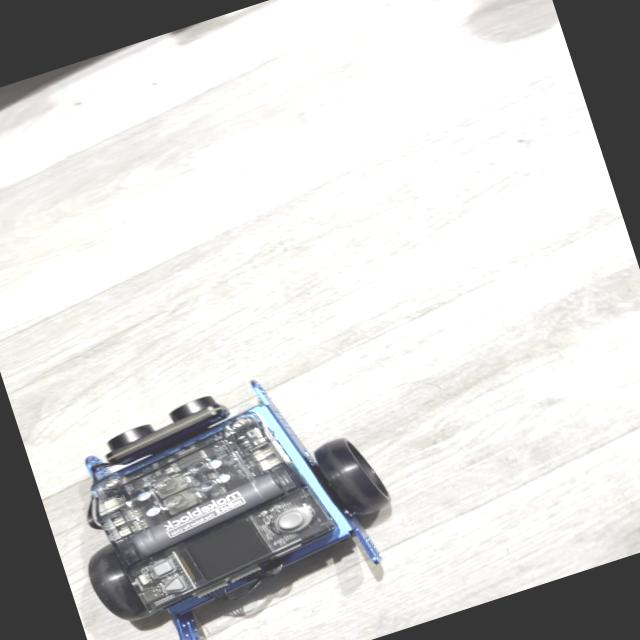mbot-detection: (23, 337, 426, 640)
